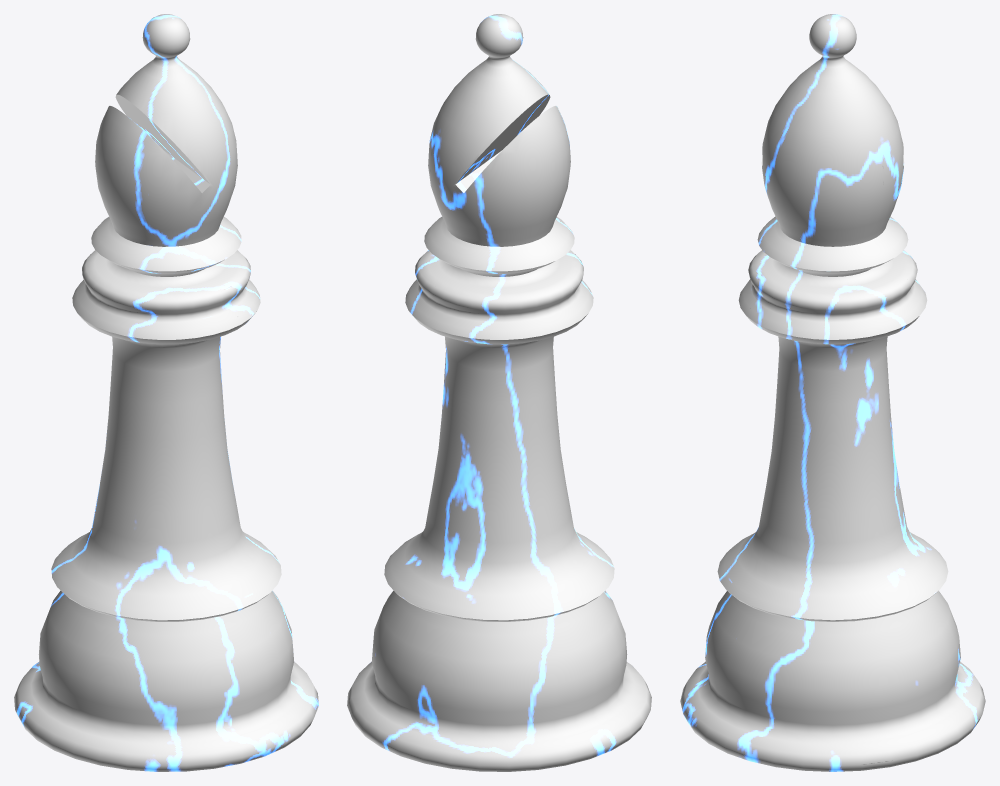
Rendered from WhiteBishop.glb.
3 renders of one model, left to right at view 1: azimuth 30°, elevation 25°; view 2: azimuth 150°, elevation 25°; view 3: azimuth 270°, elevation 25°, orthographic.
Parts seen in each view (by area): view 1: Bishop.002; view 2: Bishop.002; view 3: Bishop.002.
Part boxes in pixels (bbox=[...]): Bishop.002: bbox=[14, 14, 318, 771]; Bishop.002: bbox=[347, 14, 651, 771]; Bishop.002: bbox=[680, 14, 985, 771].
Size of the model in its own units: 0.189 by 0.4756 by 0.189.
1 material, 1 textured.
